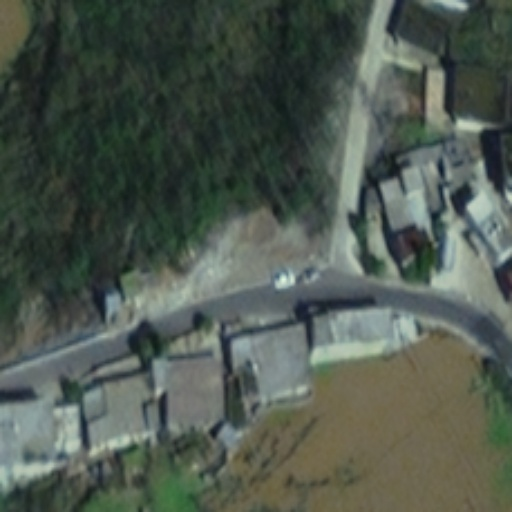landslide: (118, 207, 328, 328)
